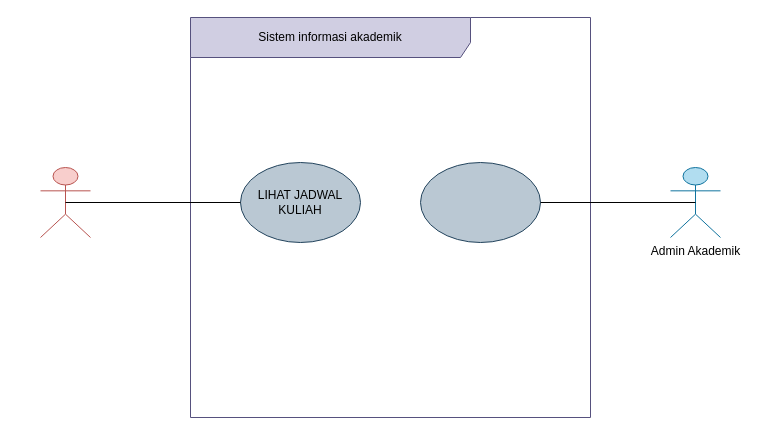
The diagram is 757 pixels wide and 435 high, and some of its shapes have lost their labels. Here are the shapes that lost their labels. From the top down, the centre of each, then its label:
(65,202): Mahasiswa Cantik
(480,202): KELOLAN JADWAL KULIAH
